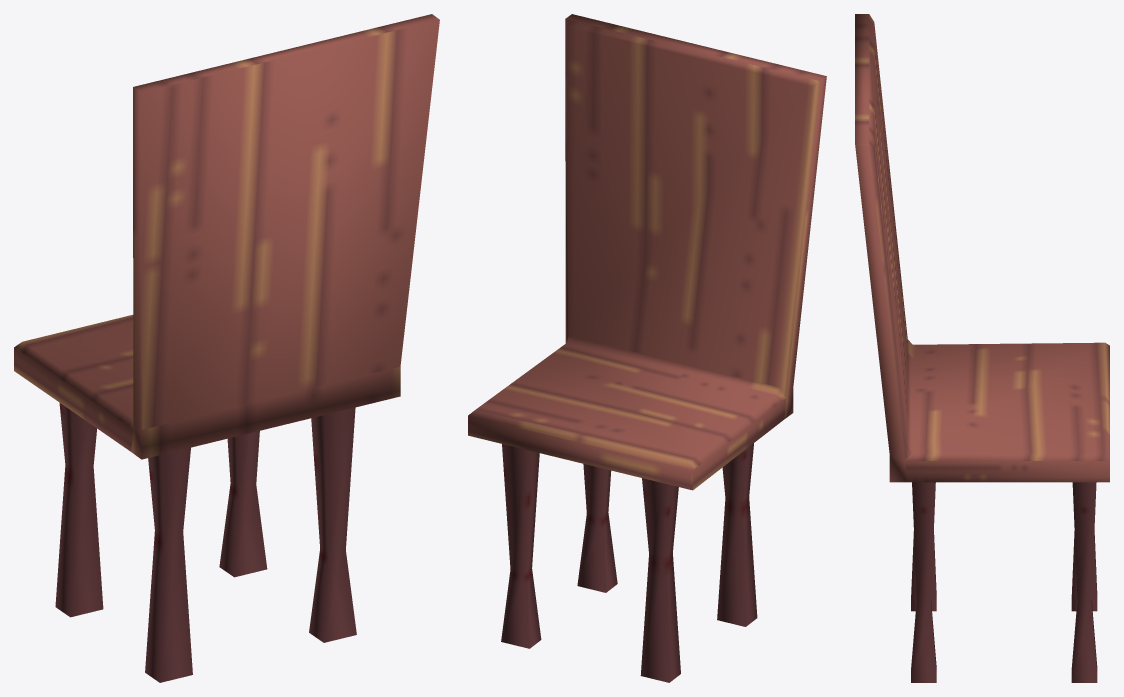
File: Cadeira.fbx
The picture shows the model from 3 angles, left to right: view 1: azimuth 30°, elevation 25°; view 2: azimuth 150°, elevation 25°; view 3: azimuth 270°, elevation 25°; orthographic projection. The views are drawn at different scales.
Visible parts, largest first — view 1: Cadeira; view 2: Cadeira; view 3: Cadeira.
Boxes of the visible parts, x1,y1,x2,y2 form: Cadeira: (14, 14, 439, 682); Cadeira: (468, 14, 826, 682); Cadeira: (855, 14, 1109, 682).
Size of the model in its own units: 75.63 by 62.19 by 151.
